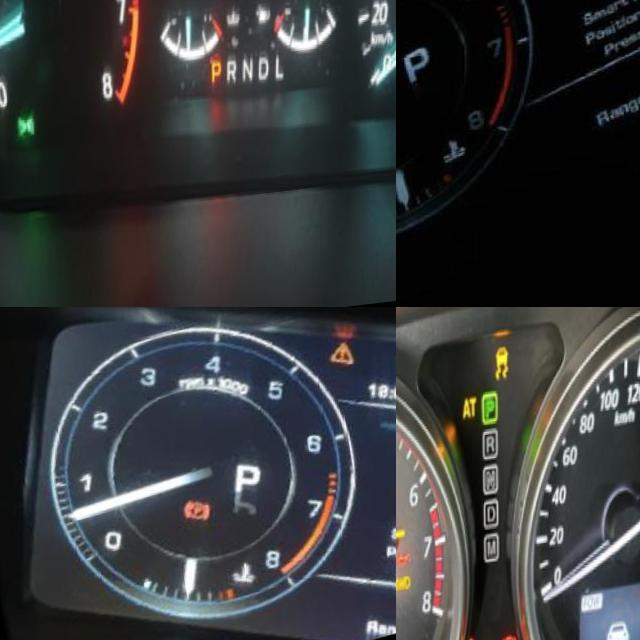Engine cooling system: (226, 555, 262, 597), (440, 144, 475, 184)
